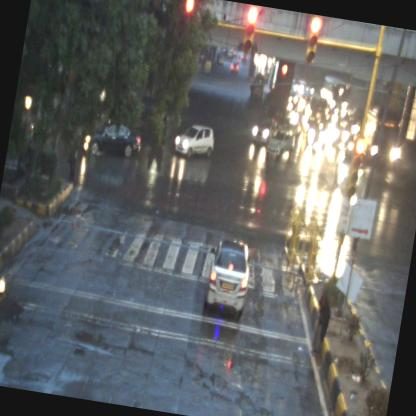bus: (360, 104, 402, 172), (320, 78, 348, 110)
car: (200, 236, 255, 321), (82, 118, 142, 160), (171, 121, 217, 161), (264, 124, 295, 160)
